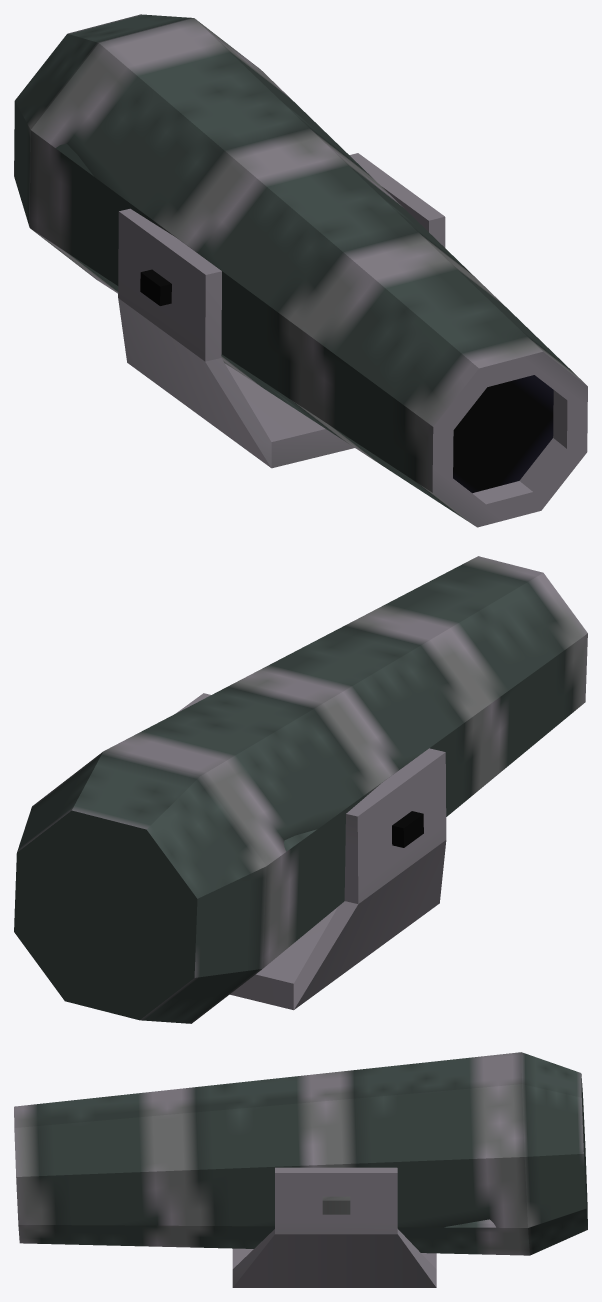
The model's file is Cannon_top.fbx.
The picture shows the model from 3 angles, top to bottom: view 1: azimuth 30°, elevation 25°; view 2: azimuth 150°, elevation 25°; view 3: azimuth 270°, elevation 25°; orthographic projection. The views are drawn at different scales.
Visible parts, largest first — view 1: Cylinder; view 2: Cylinder; view 3: Cylinder.
Boxes of the visible parts, x1=… form: Cylinder: x1=14, y1=14, x2=587, y2=527; Cylinder: x1=14, y1=556, x2=587, y2=1023; Cylinder: x1=14, y1=1052, x2=587, y2=1287.
Size of the model in its own units: 211 by 219 by 563.
